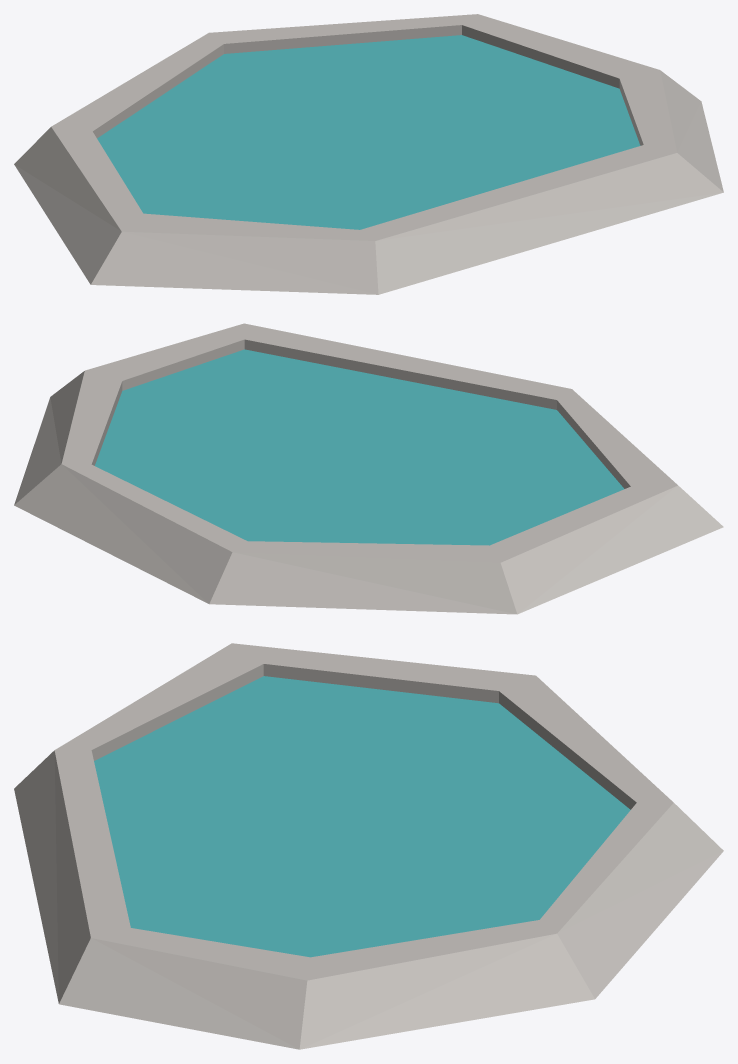
Rendered from zhuangshi_17.FBX.
The picture shows the model from 3 angles, top to bottom: view 1: azimuth 30°, elevation 25°; view 2: azimuth 150°, elevation 25°; view 3: azimuth 270°, elevation 25°; orthographic projection. The views are drawn at different scales.
Parts seen in each view (by area): view 1: zhuangshi_022; view 2: zhuangshi_022; view 3: zhuangshi_022.
Part boxes in pixels (left/top/right/bottom): zhuangshi_022: left=14, top=14, right=723, bottom=294; zhuangshi_022: left=14, top=323, right=723, bottom=614; zhuangshi_022: left=14, top=643, right=723, bottom=1049.
Size of the model in its own units: 1534 by 86.88 by 1202.
